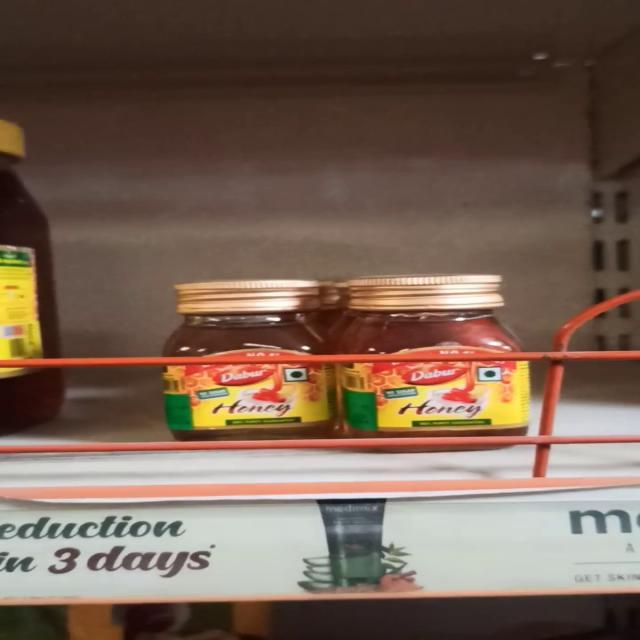Dabur Honey: (342, 270, 534, 447), (160, 279, 332, 438)
